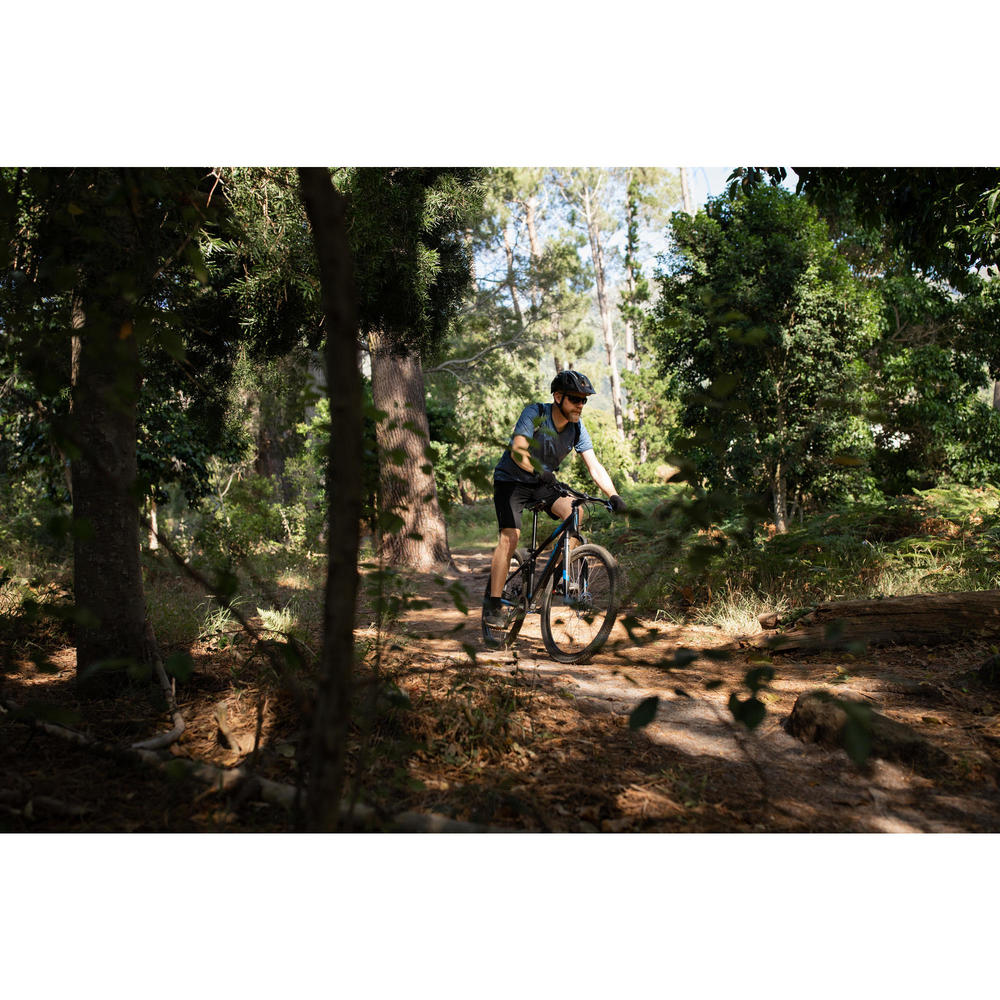MountainBike: (463, 471, 659, 664)
